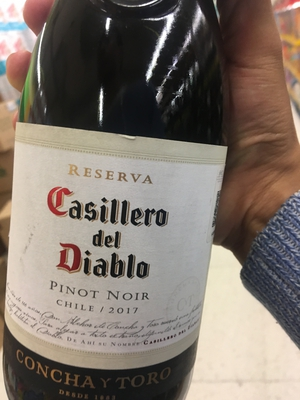casillero del diablo pinot noir: (8, 14, 240, 400)
